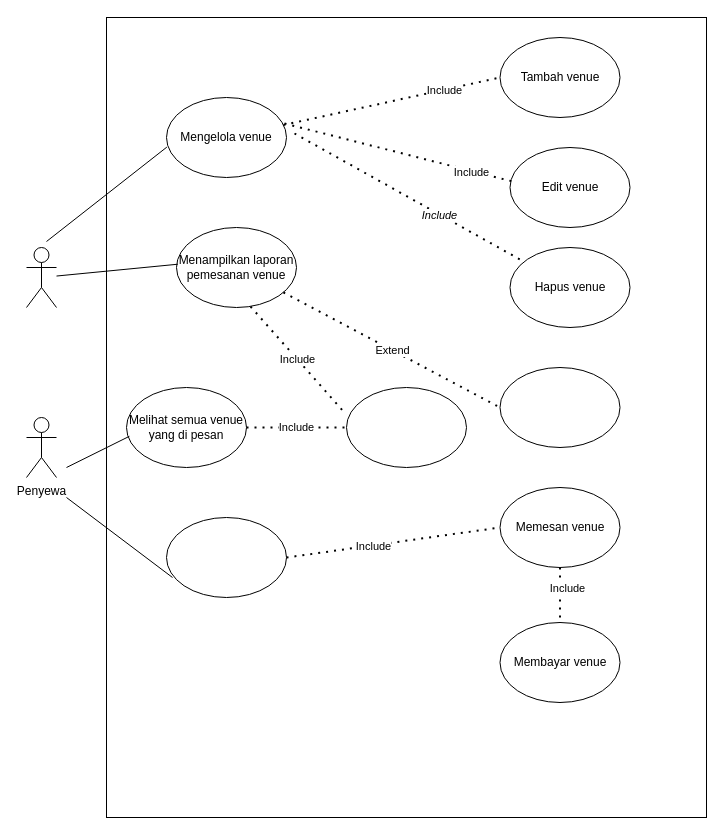
This 724x835 diagram has some shape labels left out. Each missing label, with the box of its shape:
Admin: (26, 246, 56, 308)
Detail pesanan: (346, 386, 466, 468)
Melihat detail venue: (166, 516, 286, 598)
Unduh laporan: (499, 366, 620, 448)
